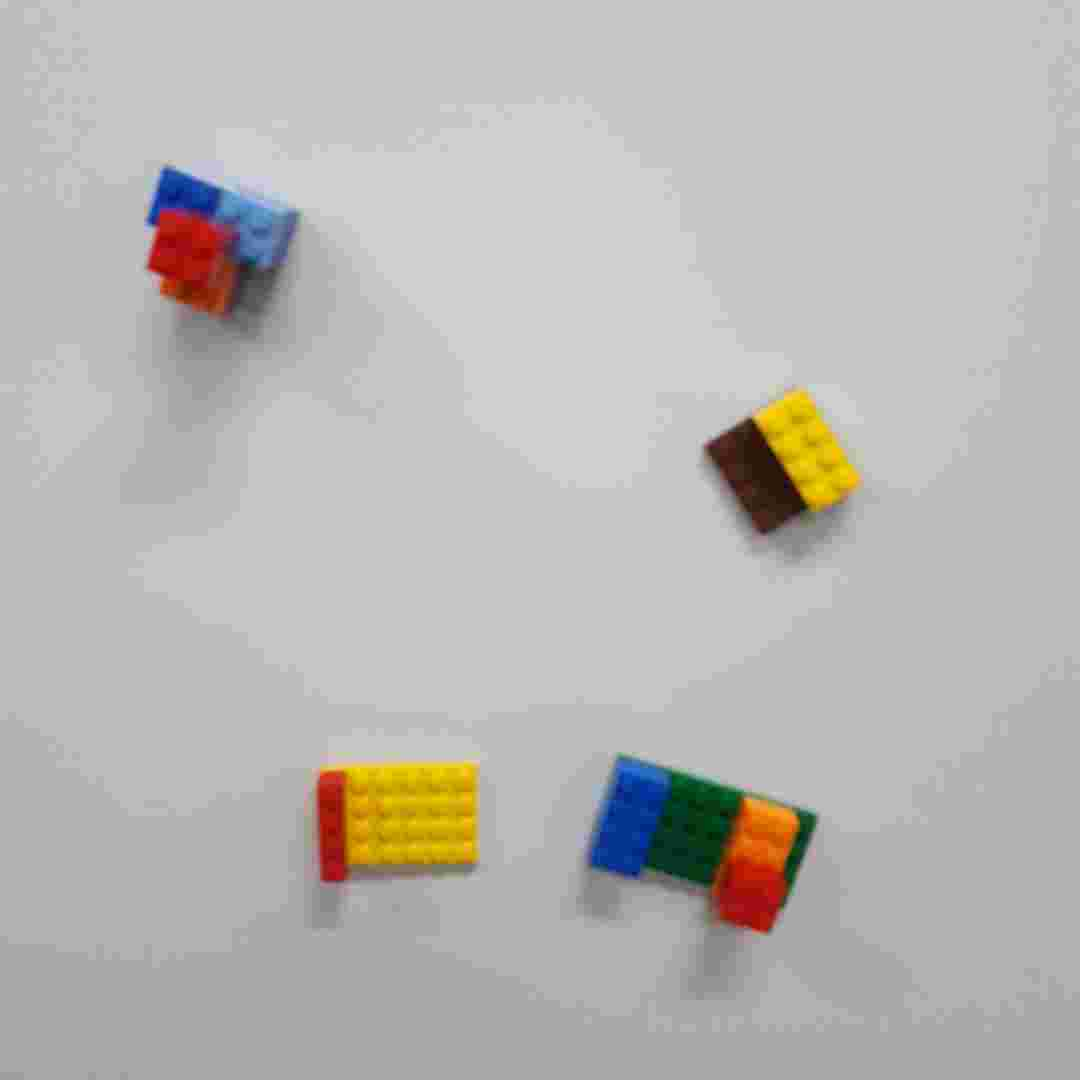LEGO: (582, 750, 820, 938), (698, 382, 864, 535), (140, 166, 306, 312), (311, 760, 487, 886)
